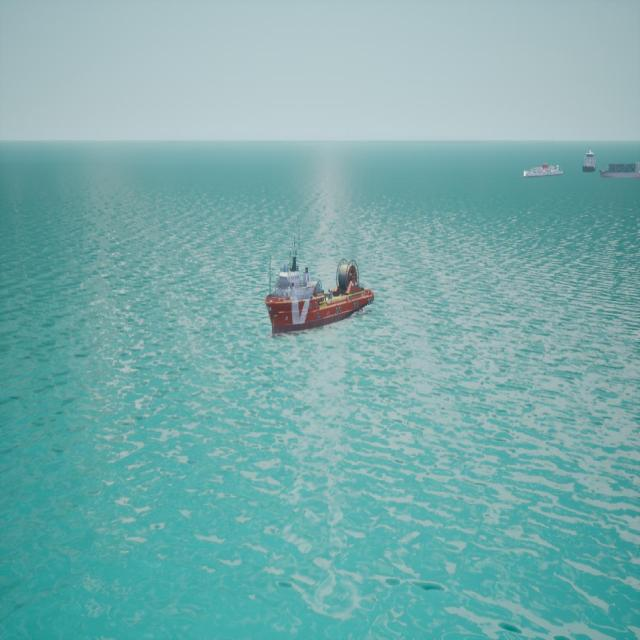tug boat: (266, 253, 374, 337)
